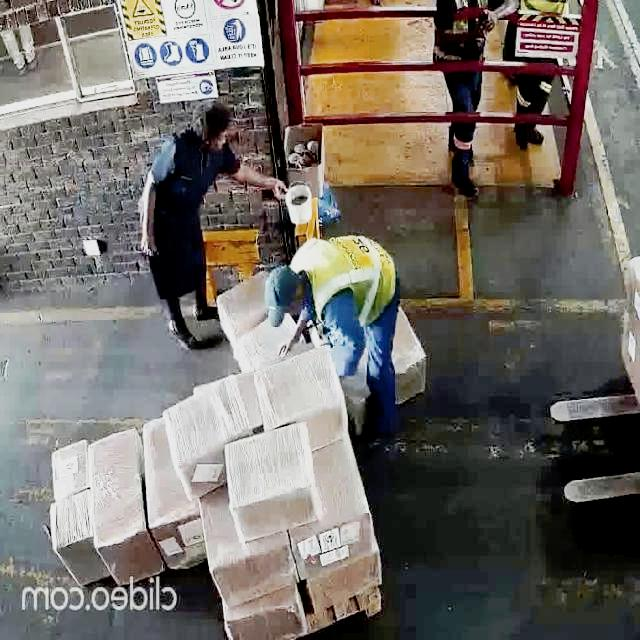Box: (220, 422, 314, 540), (258, 340, 348, 432), (96, 434, 148, 576), (168, 376, 245, 467), (294, 504, 374, 572), (214, 538, 294, 604), (308, 549, 384, 608), (54, 490, 96, 588), (229, 596, 302, 640), (46, 433, 91, 498)
